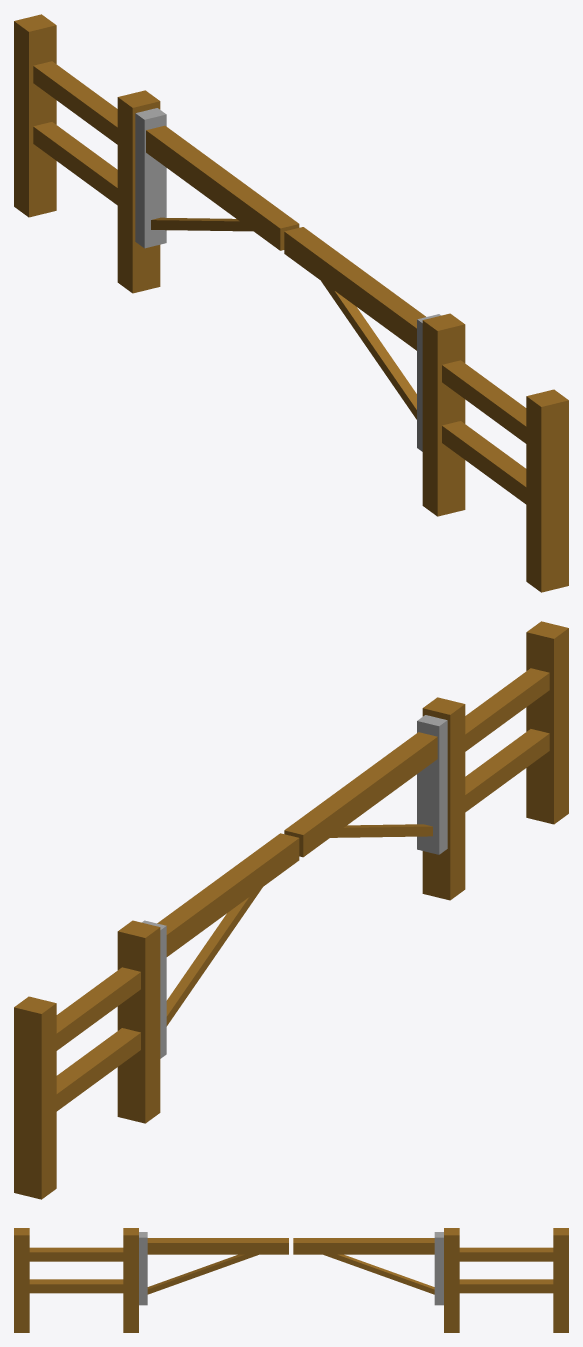
File: fence2.fbx
The picture shows the model from 3 angles, top to bottom: view 1: azimuth 30°, elevation 25°; view 2: azimuth 150°, elevation 25°; view 3: azimuth 270°, elevation 25°; orthographic projection. The views are drawn at different scales.
Visible parts, largest first — view 1: Cube_6, Cube_9, Cube; view 2: Cube_6, Cube, Cube_9; view 3: Cube_6, Cube_9, Cube.
Boxes of the visible parts, x1=… form: Cube_6: x1=14, y1=14, x2=568, y2=592; Cube_9: x1=135, y1=108, x2=299, y2=250; Cube: x1=284, y1=227, x2=440, y2=451; Cube_6: x1=14, y1=621, x2=568, y2=1199; Cube: x1=284, y1=715, x2=447, y2=857; Cube_9: x1=142, y1=833, x2=299, y2=1058; Cube_6: x1=14, y1=1228, x2=568, y2=1332; Cube_9: x1=293, y1=1232, x2=443, y2=1305; Cube: x1=139, y1=1232, x2=288, y2=1305.
Bounding box in the file's own units: 18.09 × 116 × 598.
